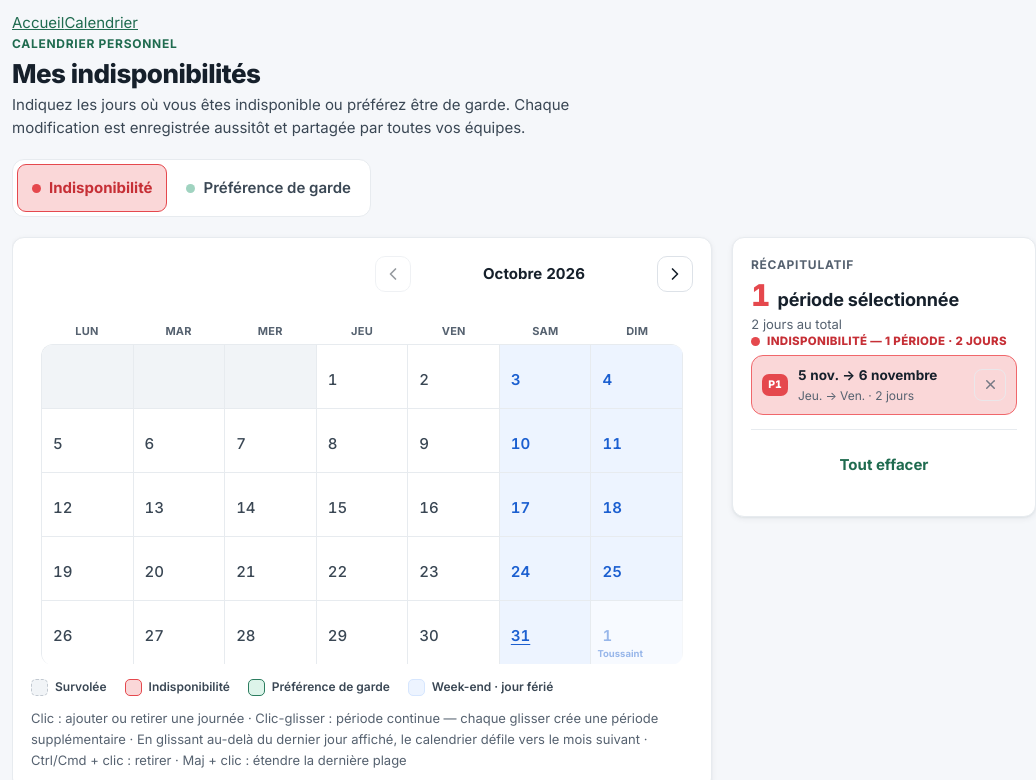
DashboardPage — synchronized with the calendar › reflects a deletion made in the calendar
The width and height of the screenshot is (1036, 780).
What coordinates should you click on to do the following:
click the button named "Retirer"
I would click on:
 (990, 385)
Its box is [974,369,1006,401].
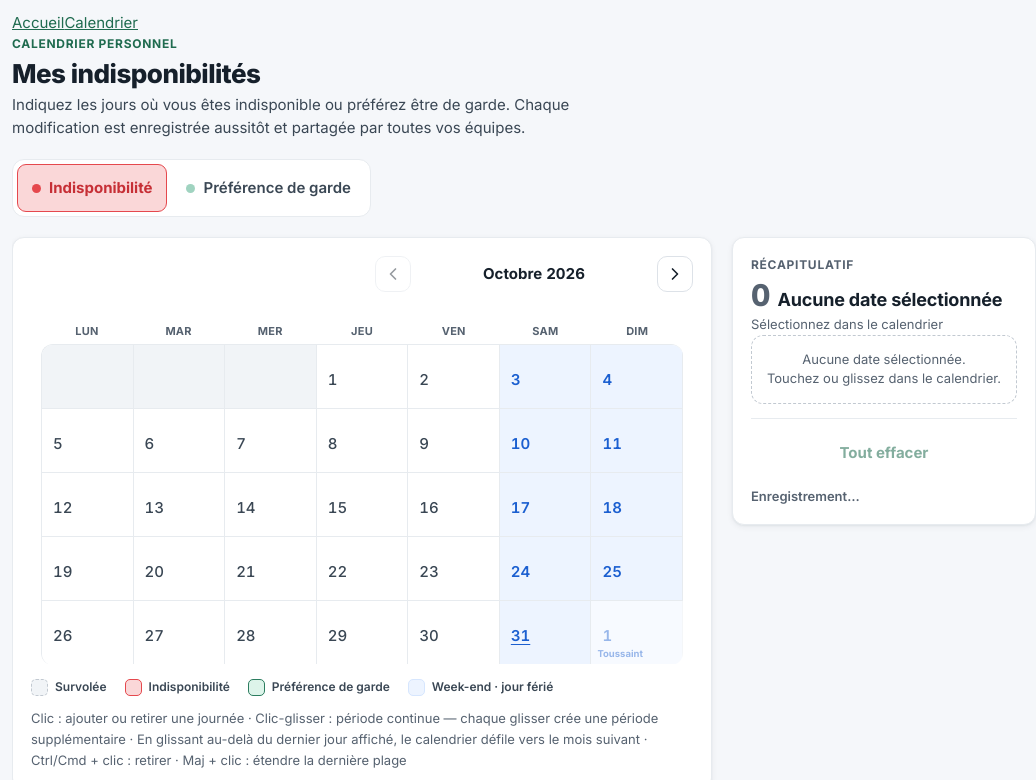
What coordinates should you click on to do the following:
click the link "Accueil"
I would click on:
 (38, 22)
Its box is [12,13,64,32].
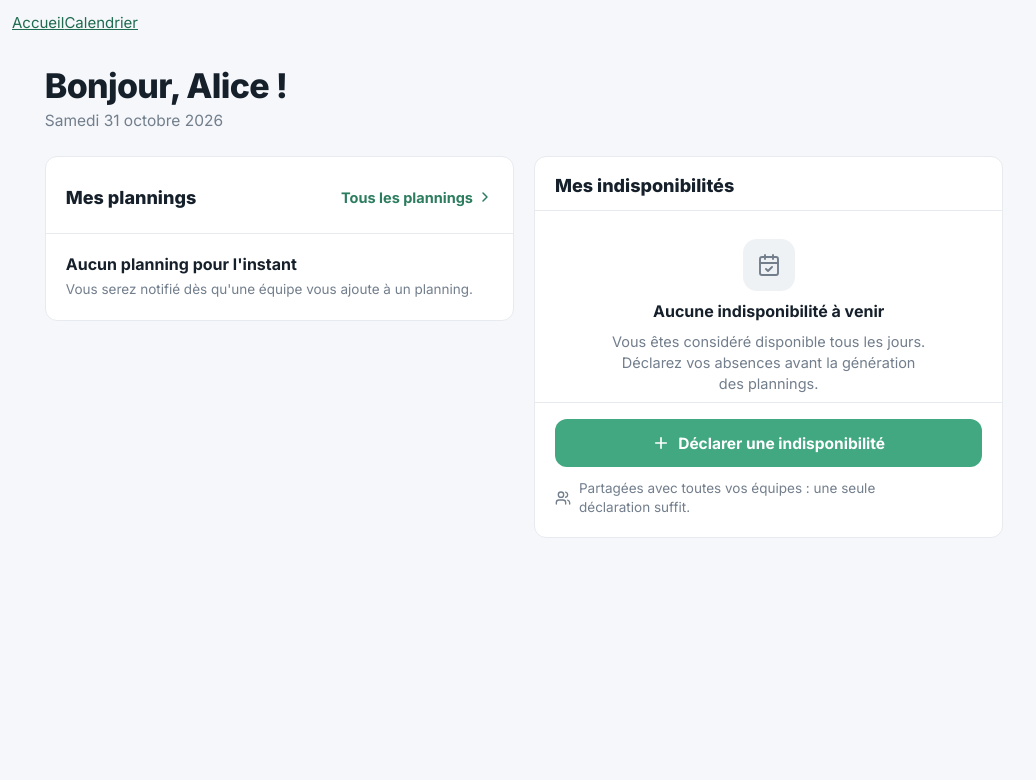
Expected: the text "Aucune indisponibilité à venir" is shown, [653,301,884,321]
